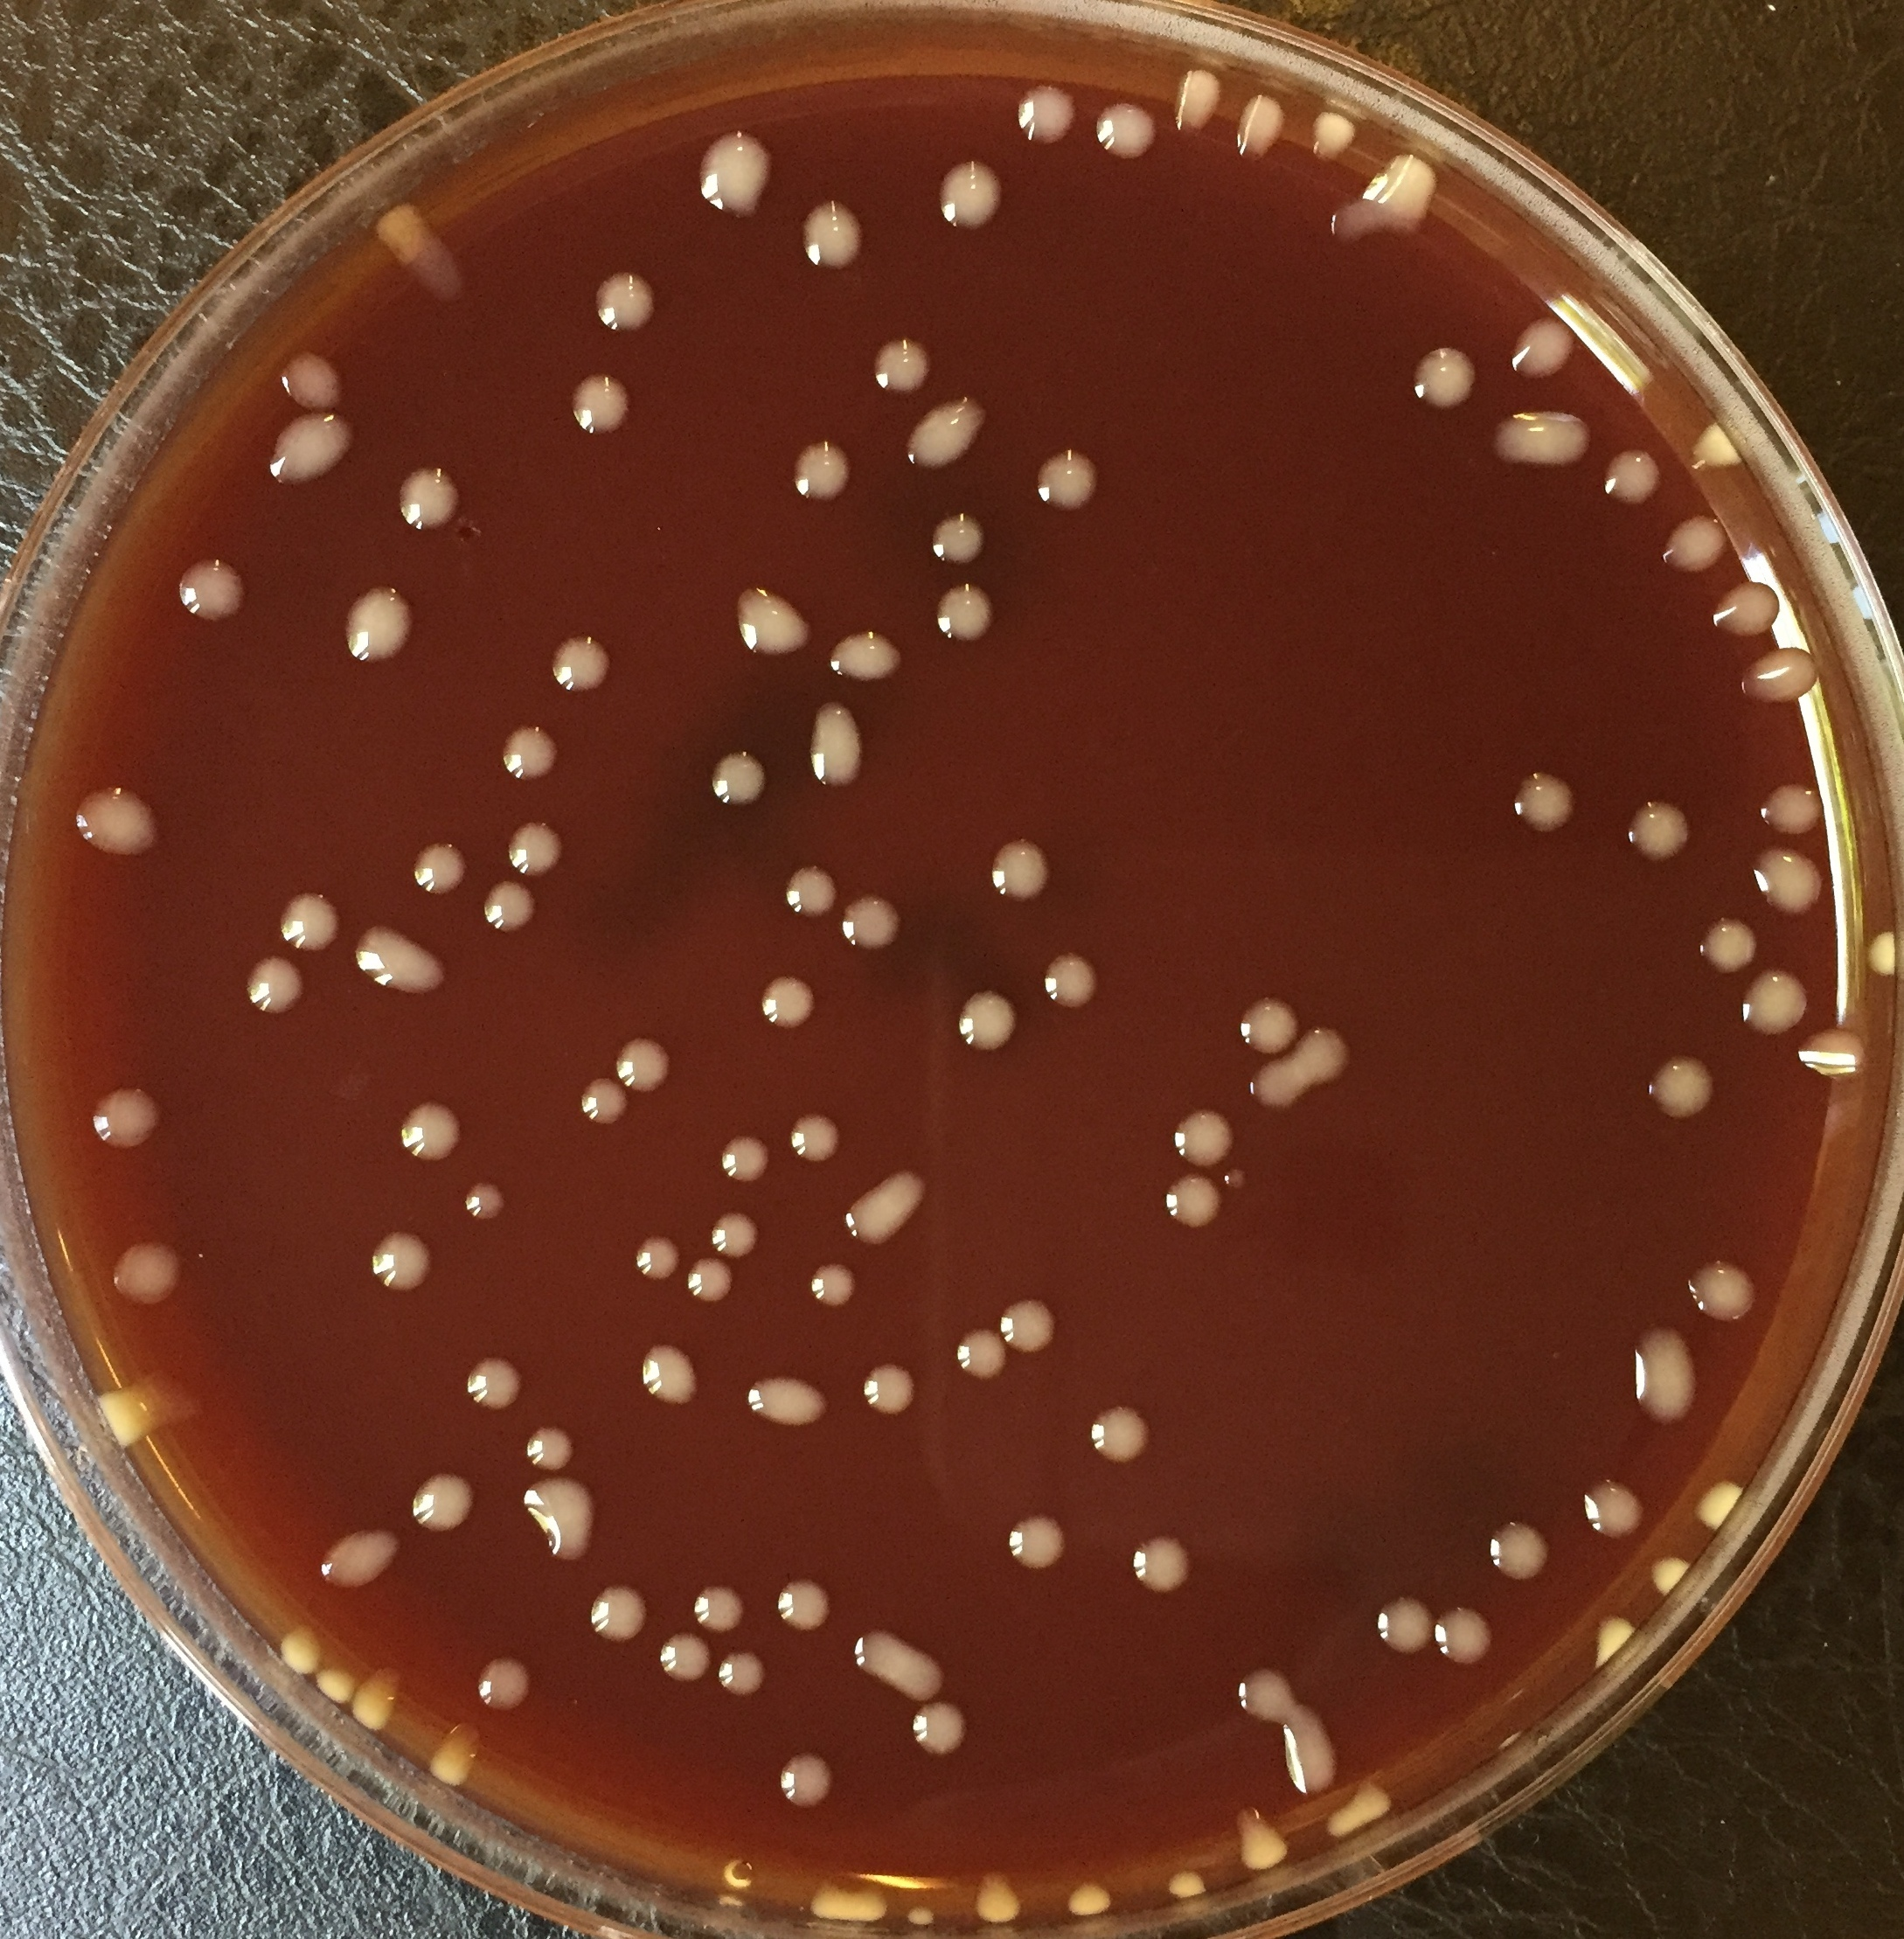sp19: (77, 1360, 220, 1461), (1329, 143, 1444, 248), (1630, 1310, 1707, 1430), (370, 211, 462, 309), (66, 779, 167, 867), (901, 382, 994, 476), (514, 1470, 605, 1566), (331, 579, 424, 670), (352, 919, 453, 999), (849, 1625, 950, 1704), (696, 120, 774, 221), (839, 1161, 931, 1245), (1271, 1695, 1343, 1803), (729, 582, 816, 668), (267, 406, 357, 488), (1679, 1248, 1766, 1332), (1489, 405, 1597, 471), (310, 1526, 406, 1597), (101, 1238, 188, 1315), (807, 691, 870, 795), (391, 459, 473, 537), (739, 1367, 833, 1435), (406, 1468, 493, 1541), (1505, 764, 1585, 840), (1737, 645, 1824, 715), (364, 1224, 443, 1301), (1747, 840, 1826, 917), (931, 157, 1004, 239), (396, 1092, 471, 1170), (167, 554, 258, 619), (1161, 1104, 1240, 1177), (84, 1086, 164, 1158), (567, 368, 642, 443), (1707, 572, 1784, 643), (1034, 445, 1111, 516), (797, 197, 868, 274), (807, 1869, 898, 1929), (1649, 1050, 1724, 1121), (633, 1341, 708, 1411), (1574, 1473, 1651, 1541), (950, 987, 1027, 1055), (837, 889, 914, 957), (275, 347, 354, 413), (825, 623, 907, 685), (1623, 795, 1695, 867), (418, 1721, 492, 1791), (1740, 964, 1808, 1039), (1409, 345, 1486, 412), (546, 629, 617, 699), (1091, 98, 1161, 169), (1660, 511, 1733, 579), (1794, 1020, 1869, 1086), (985, 833, 1057, 901), (1513, 314, 1581, 385), (593, 263, 661, 335), (350, 1660, 413, 1737), (497, 717, 567, 785), (1690, 912, 1759, 980), (1226, 1805, 1297, 1871), (924, 506, 996, 572), (1482, 1519, 1555, 1583), (1325, 1779, 1398, 1843), (274, 889, 347, 954), (584, 1580, 652, 1648), (1003, 1505, 1071, 1573), (1431, 1601, 1498, 1670), (706, 741, 771, 813), (1756, 778, 1829, 840), (1233, 87, 1294, 162), (1231, 1660, 1301, 1725), (1085, 1402, 1154, 1466), (1290, 1020, 1362, 1083), (239, 956, 312, 1017), (462, 1350, 528, 1416), (868, 331, 935, 398), (471, 1651, 534, 1721), (1036, 952, 1102, 1017), (788, 438, 854, 502), (751, 971, 821, 1032), (779, 858, 840, 928), (1015, 84, 1085, 145), (1156, 1174, 1227, 1233), (903, 1695, 969, 1758), (1236, 992, 1299, 1058), (776, 1745, 837, 1813), (502, 820, 574, 877), (610, 1034, 675, 1097), (933, 581, 999, 642), (408, 837, 476, 896), (1170, 66, 1229, 134), (1130, 1533, 1194, 1594), (1374, 1590, 1435, 1655), (996, 1299, 1062, 1358), (858, 1360, 922, 1419), (966, 1868, 1030, 1927), (690, 1578, 750, 1641), (656, 1627, 715, 1688), (771, 1576, 832, 1636), (1309, 106, 1370, 166), (1604, 448, 1667, 506), (710, 1646, 771, 1704), (274, 1622, 326, 1688), (715, 1130, 774, 1187), (479, 875, 539, 933), (1690, 417, 1749, 474), (947, 1327, 1008, 1383), (1691, 1480, 1751, 1534), (631, 1229, 687, 1285), (521, 1423, 584, 1472), (574, 1074, 629, 1128), (682, 1255, 739, 1308), (706, 1207, 764, 1259), (457, 1177, 518, 1226), (1247, 1064, 1302, 1116), (788, 1111, 846, 1161), (1058, 1880, 1121, 1925), (1588, 1611, 1642, 1663), (314, 1662, 366, 1712), (806, 1259, 858, 1308), (1158, 1864, 1208, 1909), (1862, 926, 1901, 985), (1649, 1550, 1697, 1595), (901, 1899, 950, 1937), (1219, 1165, 1252, 1193)
